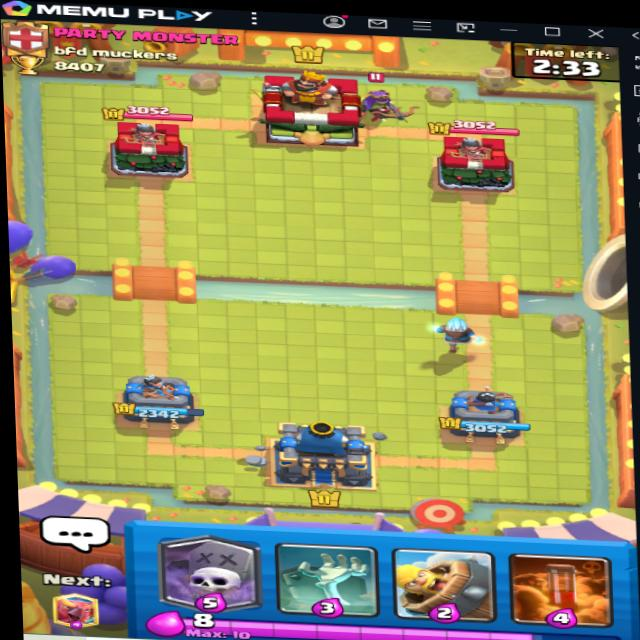Queen: (344, 67, 423, 128)
